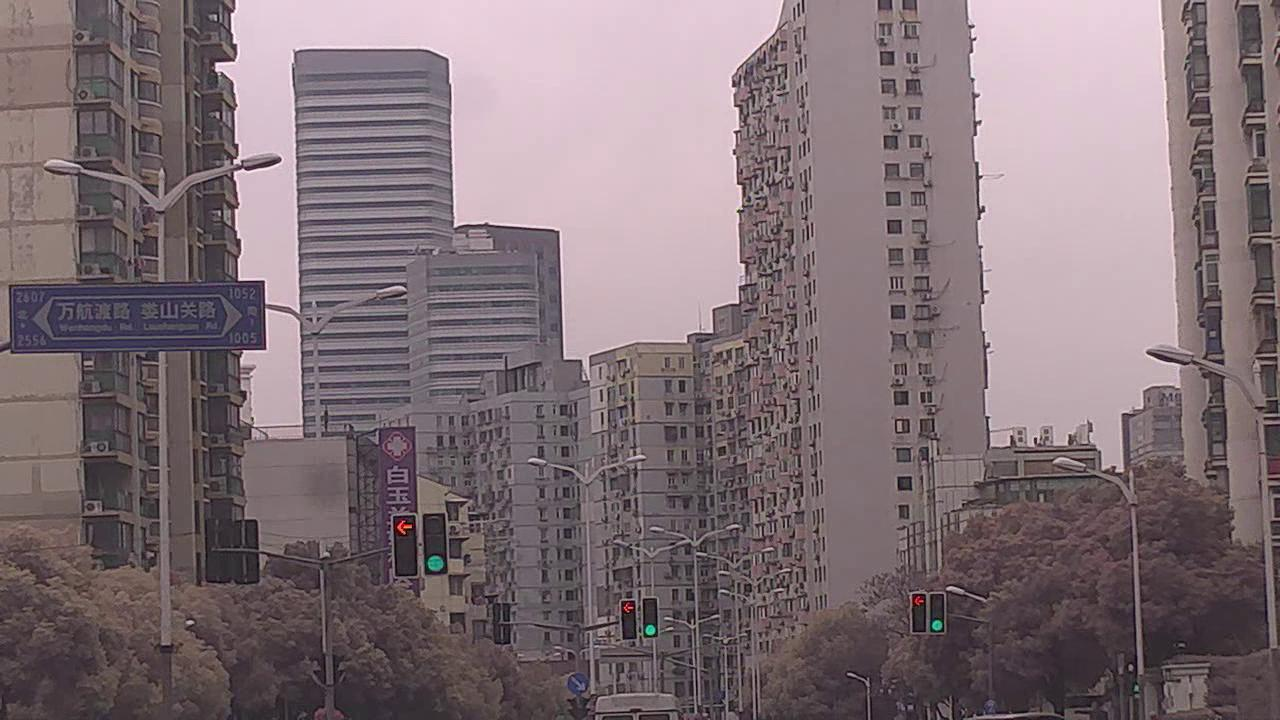traffic_light: (423, 513, 452, 575), (392, 513, 418, 575), (927, 593, 947, 631), (643, 597, 660, 639), (910, 593, 928, 629), (621, 596, 637, 636)
